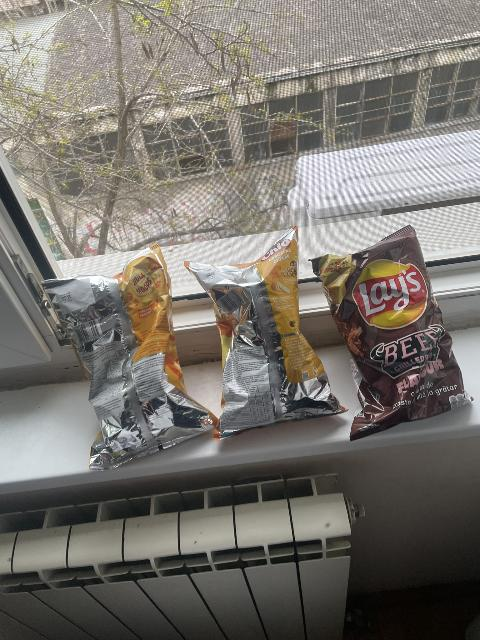Chio Cascaval 125g: (189, 229, 341, 436)
Chio Hula Hoops Cheese 70g: (42, 250, 217, 465)
Lays Beef Grilled Ribs 125g: (308, 224, 469, 439)
